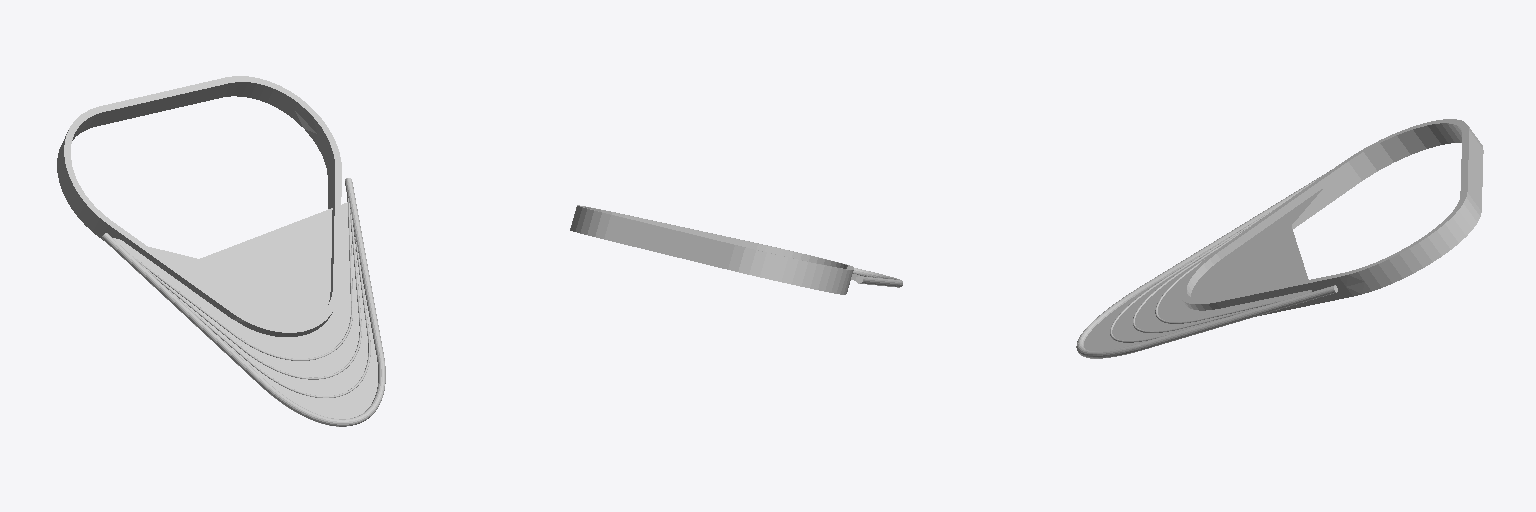
File: mascara-parte.obj
The picture shows the model from 3 angles: view 1: azimuth 30°, elevation 25°; view 2: azimuth 150°, elevation 25°; view 3: azimuth 270°, elevation 25°; orthographic projection.
Size of the model in its own units: 229 by 165 by 320.